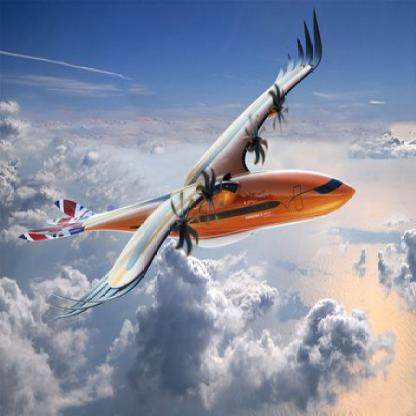CIV_Plane: (19, 1, 356, 324)
